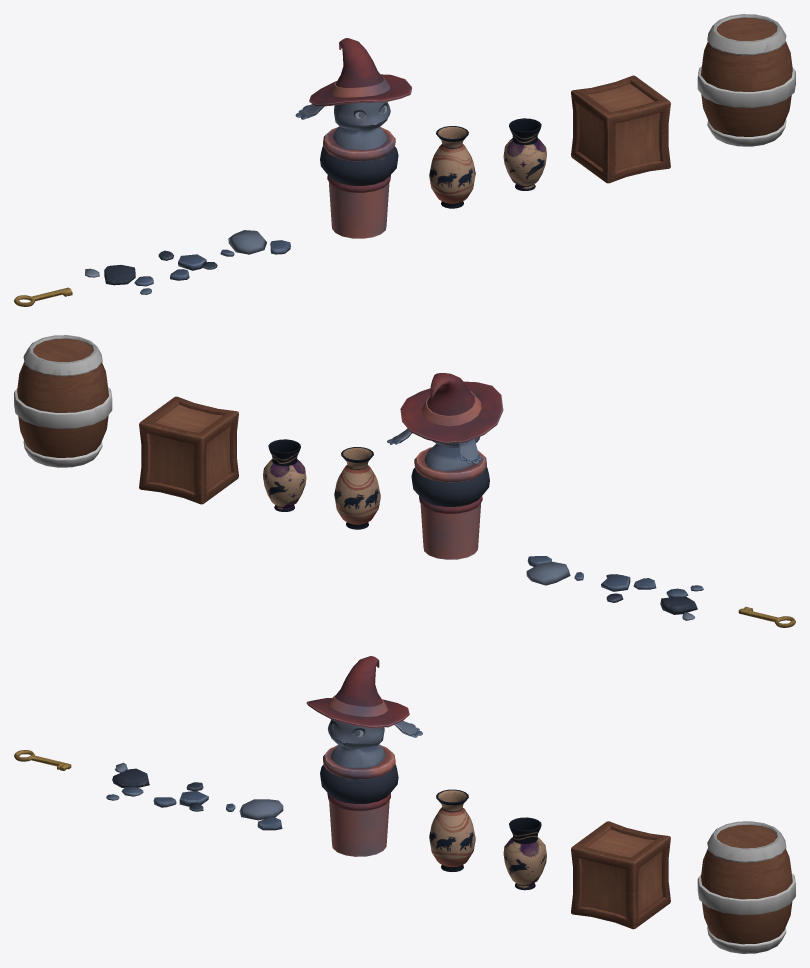
Rendered from Decor.fbx.
3 renders of one model, top to bottom at view 1: azimuth 30°, elevation 25°; view 2: azimuth 150°, elevation 25°; view 3: azimuth 330°, elevation 25°, orthographic.
Parts seen in each view (by area): view 1: BunnyStatue, barrel, Crate, Vase2, Vase, Rocks1, Rocks3, Rocks2; view 2: BunnyStatue, barrel, Crate, Vase2, Vase, Rocks1, Rocks3, Rocks2; view 3: BunnyStatue, barrel, Crate, Vase2, Vase, Rocks1, Rocks3, Rocks2.
Part boxes in pixels (x1,y1,x2,y2): BunnyStatue: (295,38,411,238); barrel: (697,14,795,146); Crate: (571,75,670,183); Vase2: (429,126,475,208); Vase: (503,118,546,190); Rocks1: (220,230,290,256); Rocks3: (85,265,153,294); Rocks2: (158,250,217,280); BunnyStatue: (387,373,503,559); barrel: (14,335,112,467); Crate: (139,396,238,504); Vase2: (334,447,380,529); Vase: (263,439,306,511); Rocks1: (526,556,583,585); Rocks3: (660,585,703,620); Rocks2: (601,574,656,602); BunnyStatue: (306,656,422,856); barrel: (697,821,795,953); Crate: (571,821,670,929); Vase2: (429,789,475,871); Vase: (503,817,546,890); Rocks1: (226,799,283,830); Rocks3: (106,763,149,800); Rocks2: (153,782,208,811).
Bounding box in the file's own units: 9.9 × 2.2 × 1.14.
